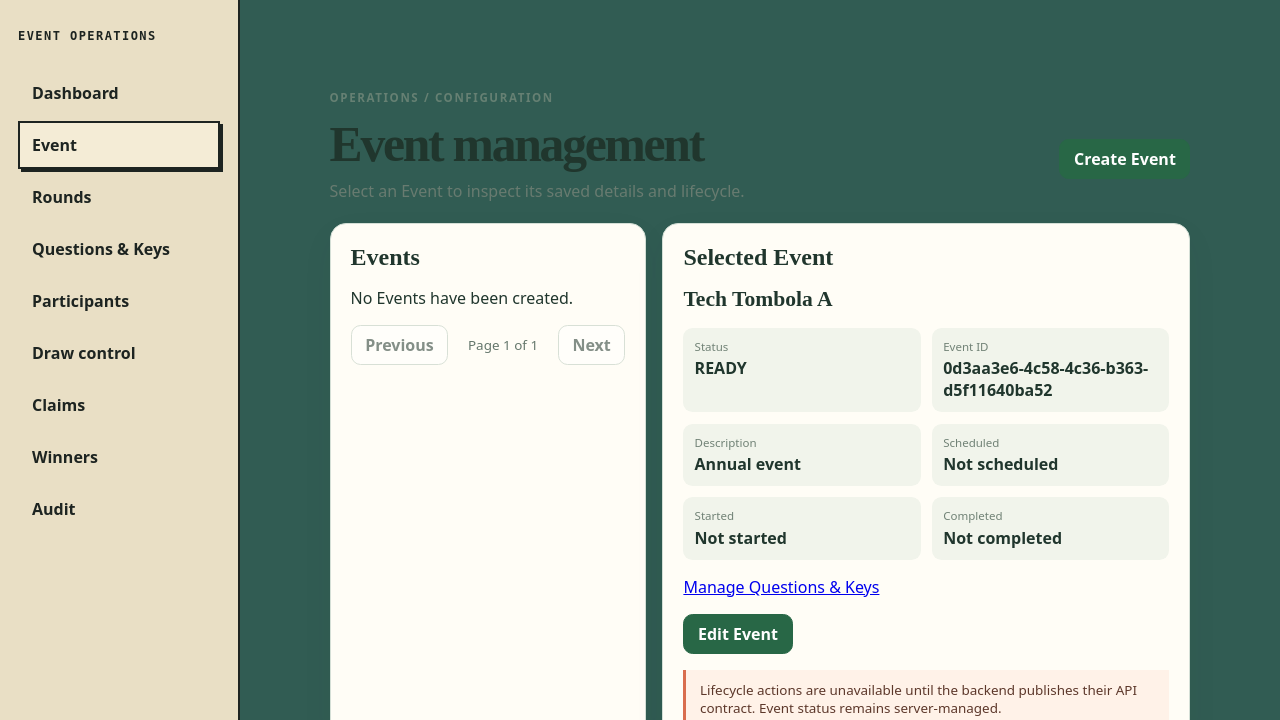
Test: Admin Event management › edits selected Event fields using the documented PATCH route
expect the text "Annual event" is shown: met, box [695,453,801,475]
Click the button "Edit Event": (738, 634) [683,614,793,654]
(page scrolled)
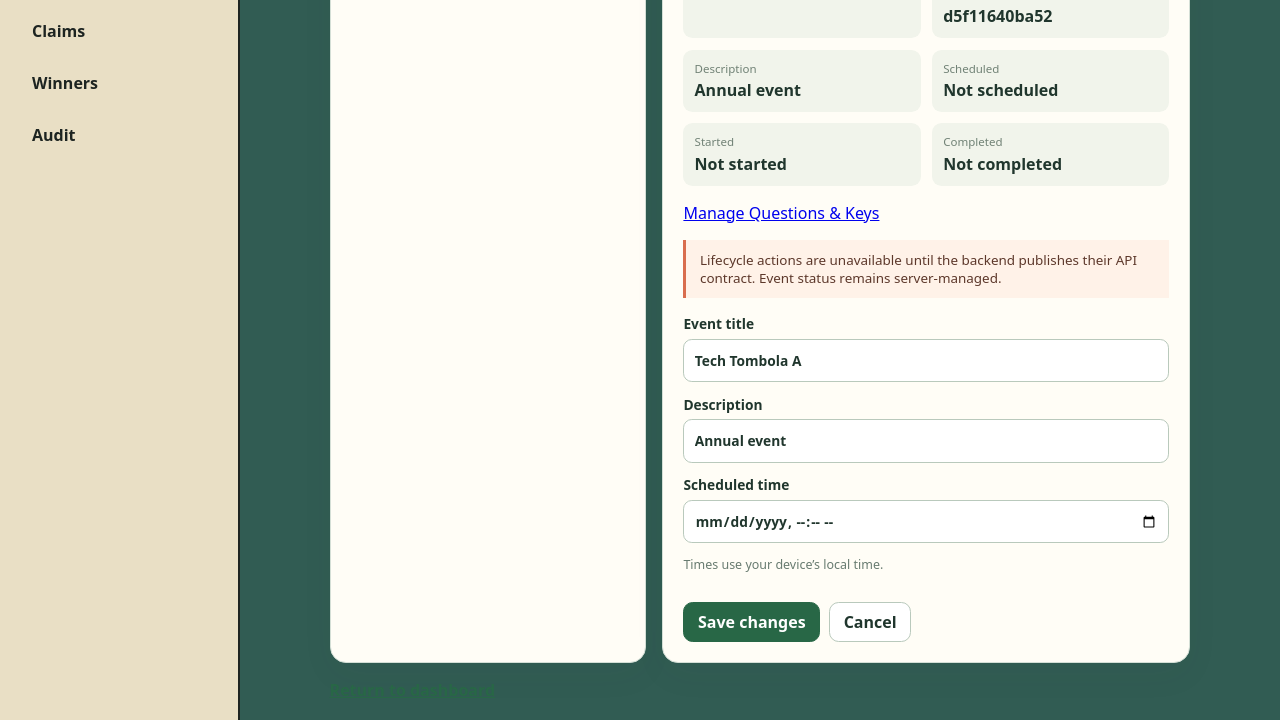
Replace the text in the field labelled "Event title" with "Renamed event": (926, 360) [683,339,1169,382]
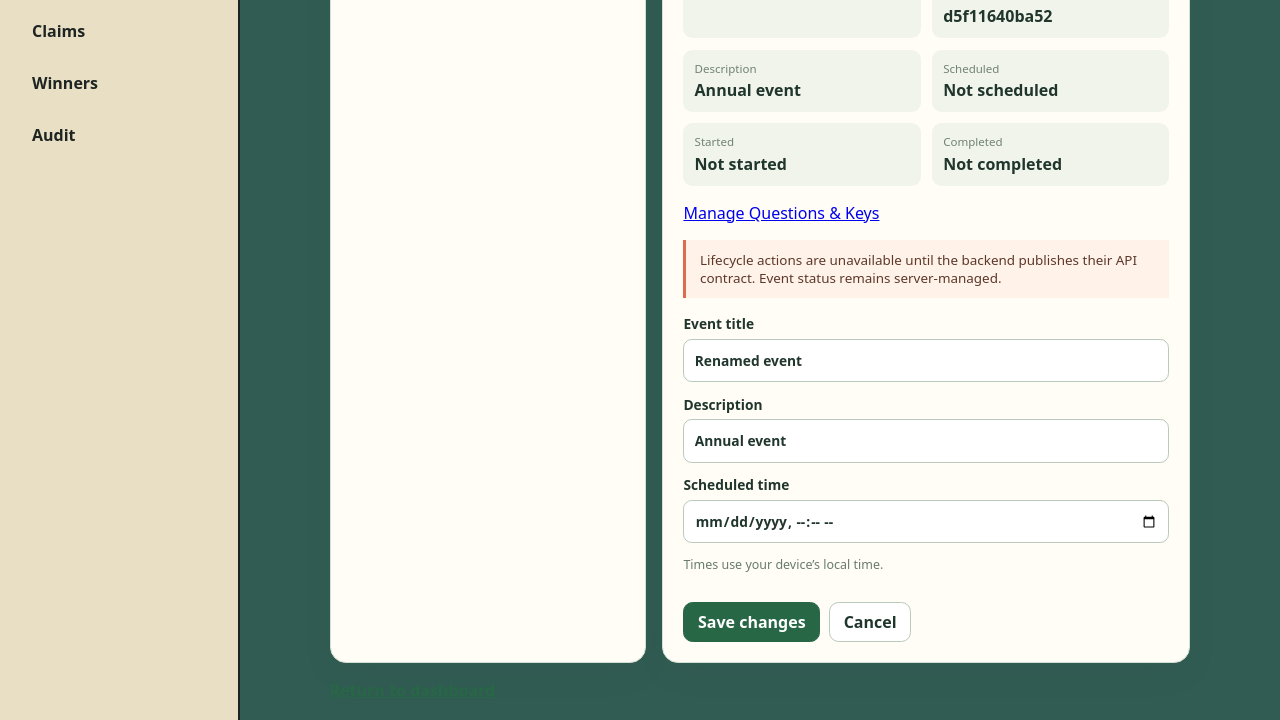
Click the button "Save changes": (752, 622) [683,602,820,642]
(page scrolled)
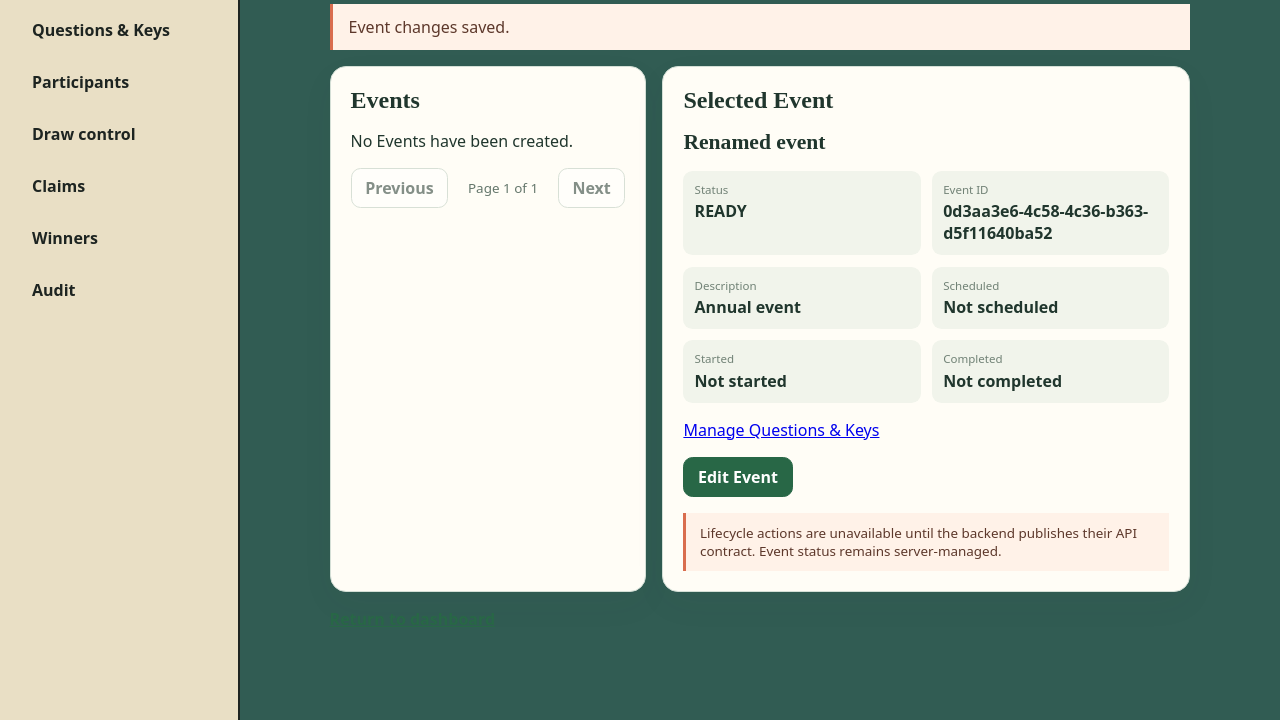
expect the text "Event changes saved." is shown: met, box [330,4,1190,50]
